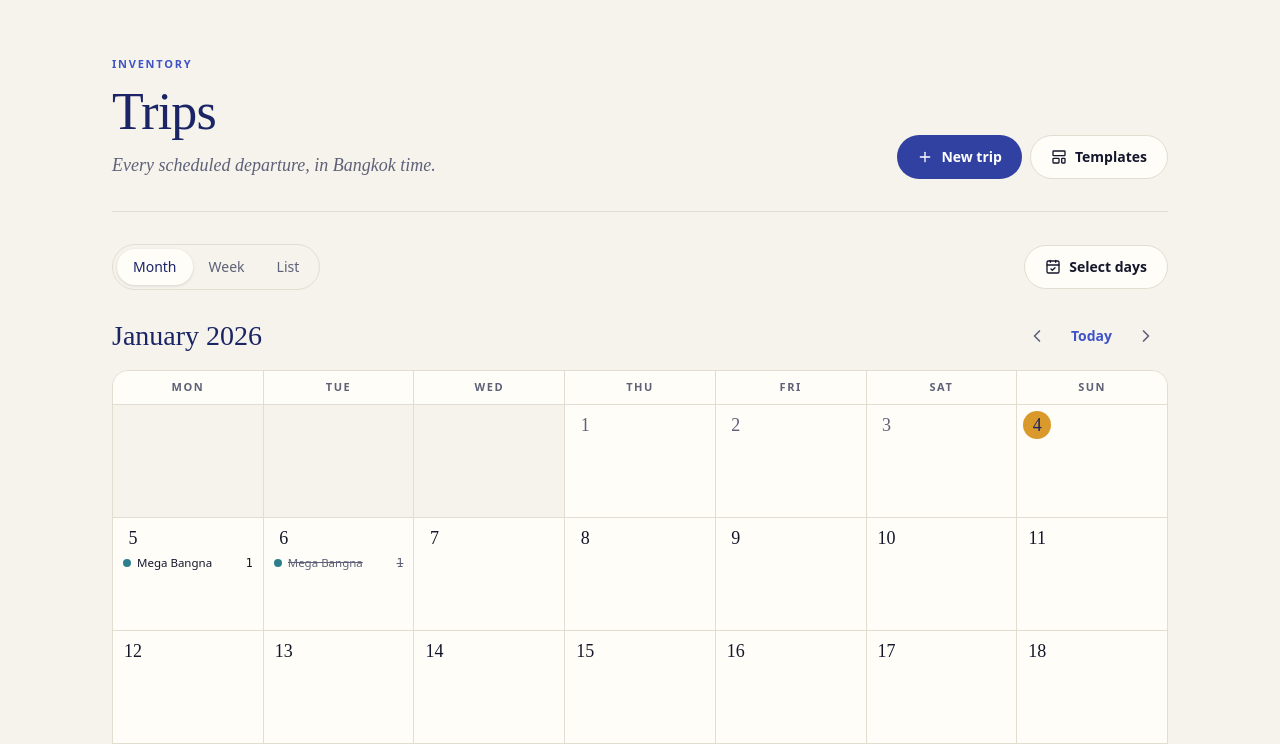
Test case: AdminTripsPage moving and cancelled trips › shows the reason under a cancelled departure in the week
The width and height of the screenshot is (1280, 744).
Click the radio button labelled "Week". click: x=226, y=267
box: [208,257,244,276]
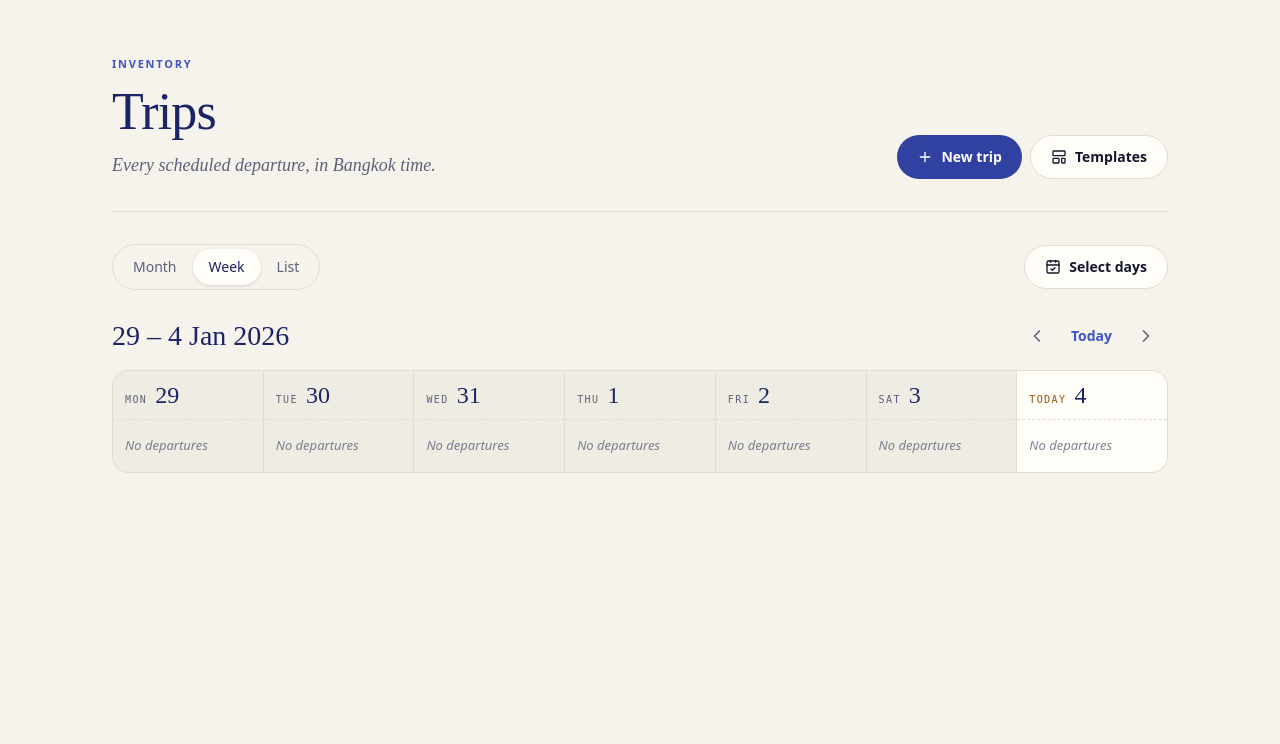
Click the button named "Next week". click: x=1146, y=336
box: [1124,314,1168,358]
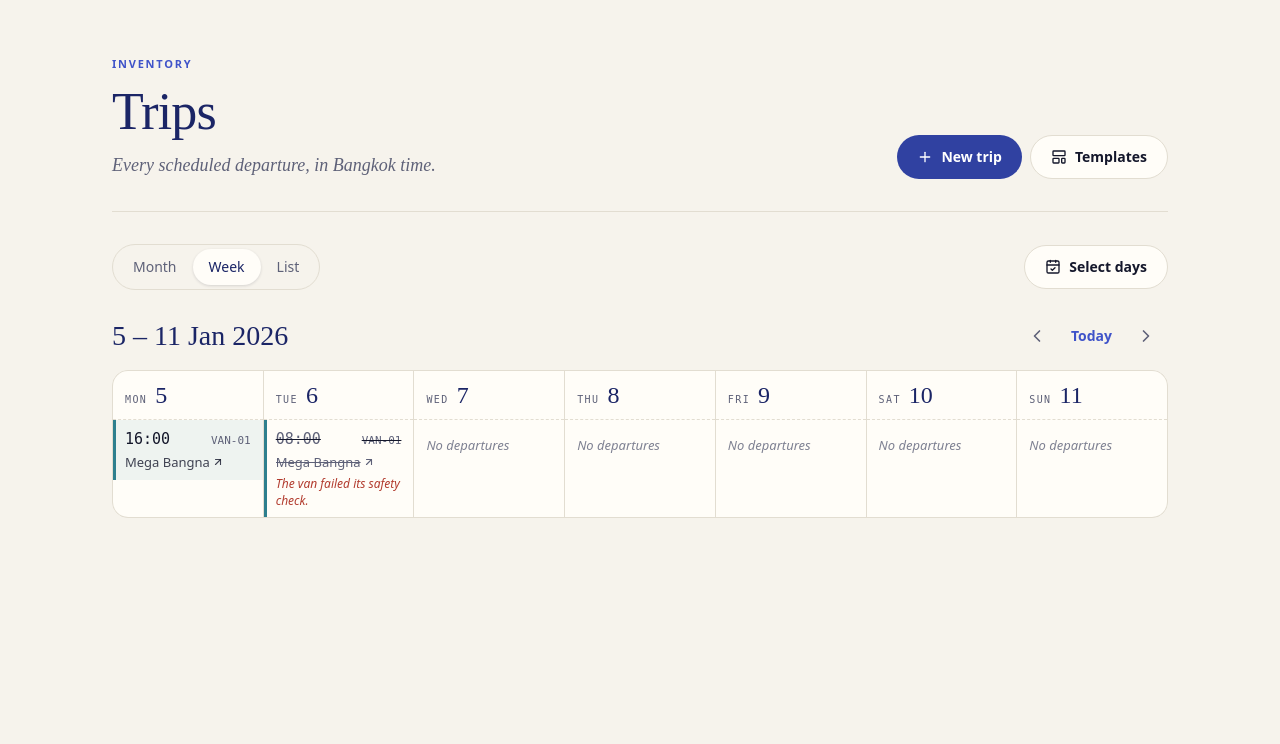
Now the text "The van failed its safety check." is shown, box [276,476,401,509]
